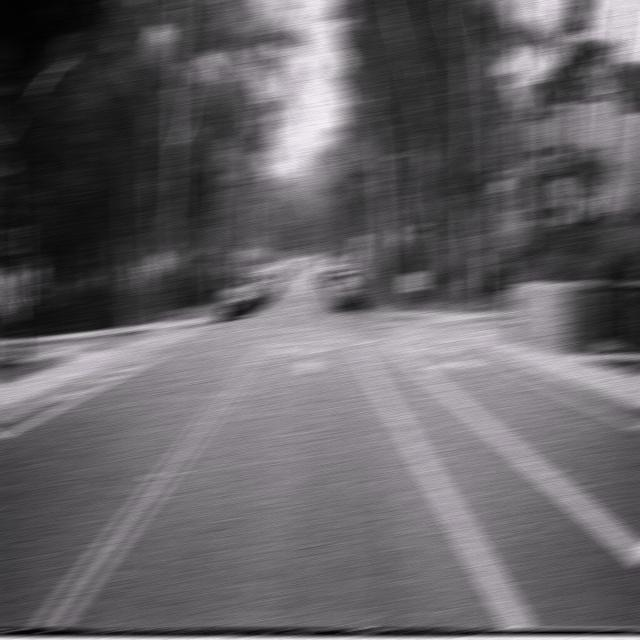stop: (498, 210, 526, 247)
